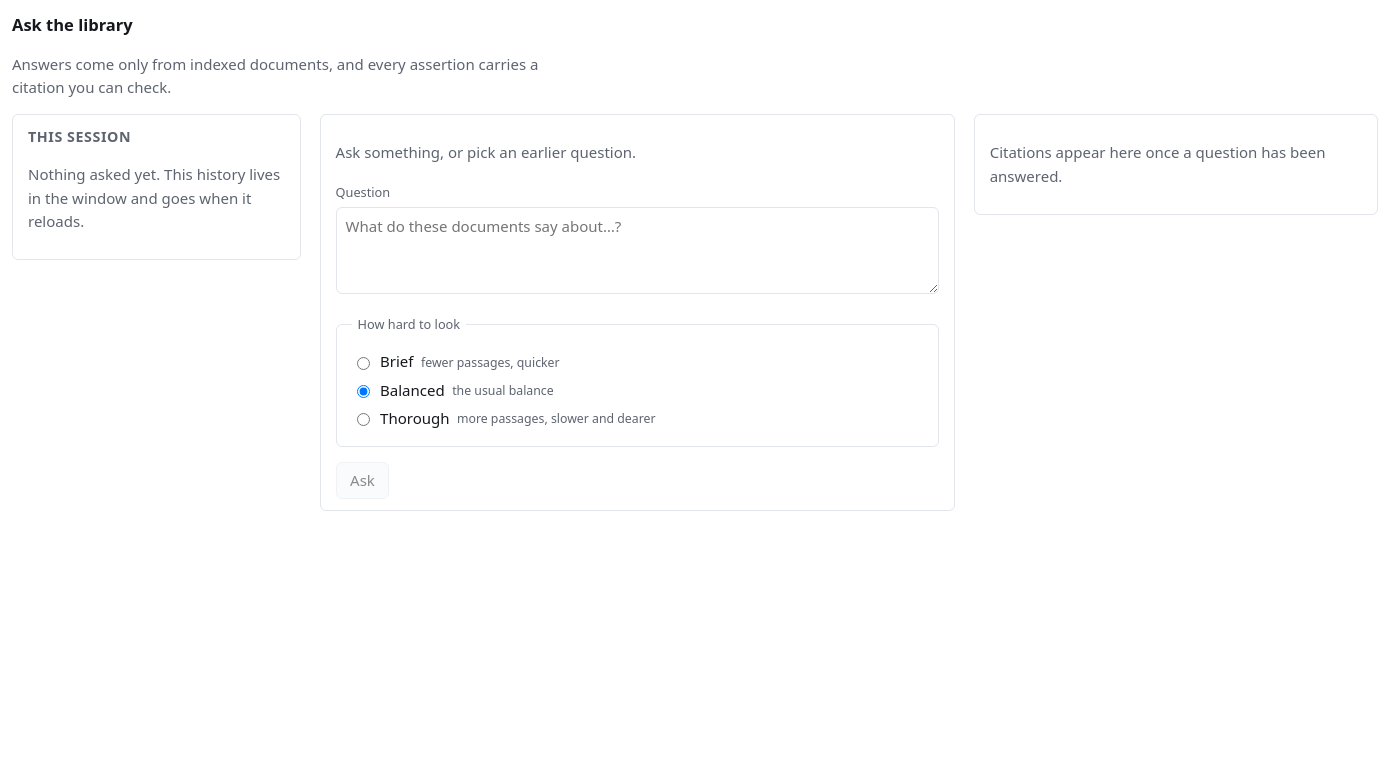
it: citations and the passage behind them › previews the first citation's passage by default
The image size is (1378, 780).
Type "¿una pregunta?" into the text box at (637, 250), box [336,207,939,294]
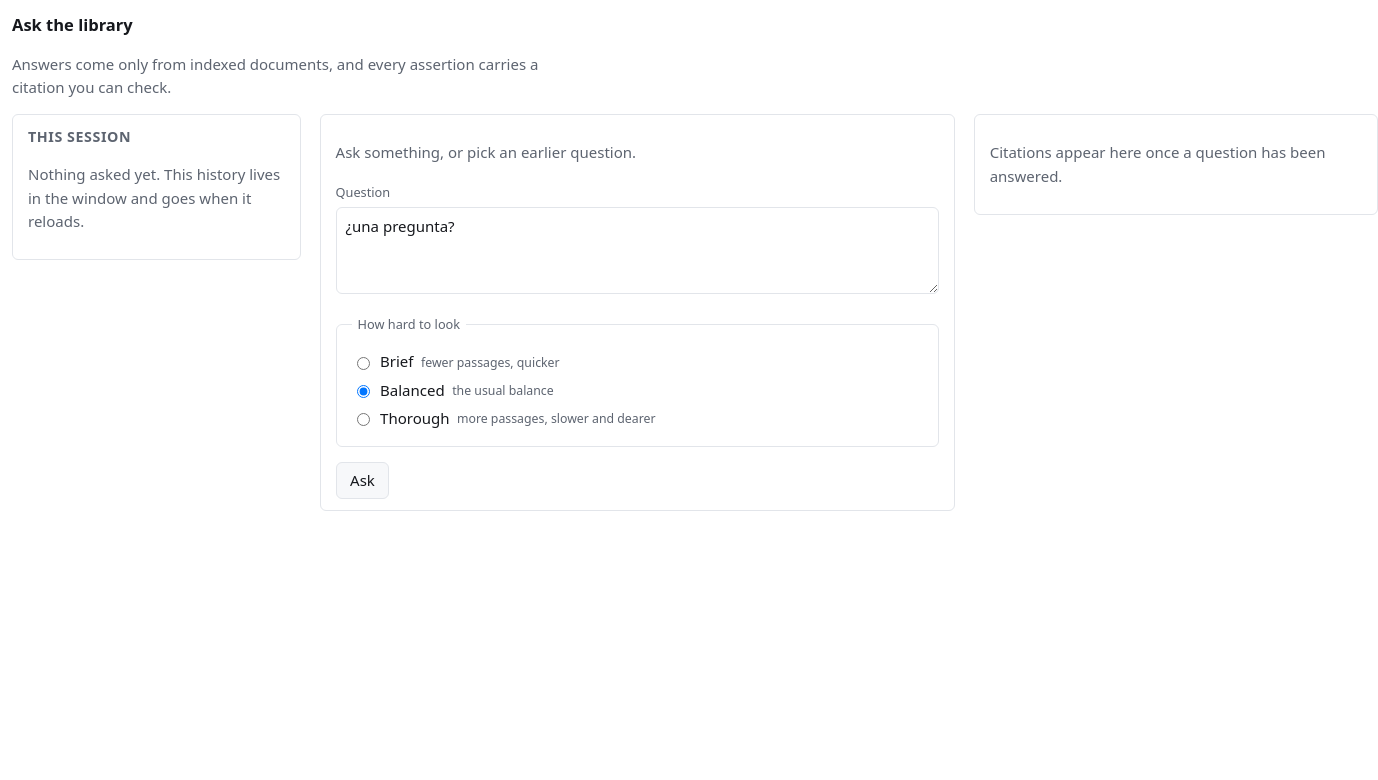
Check: the button "Ask" is enabled
Click the button "Ask" at (362, 480), box [336,462,389,499]
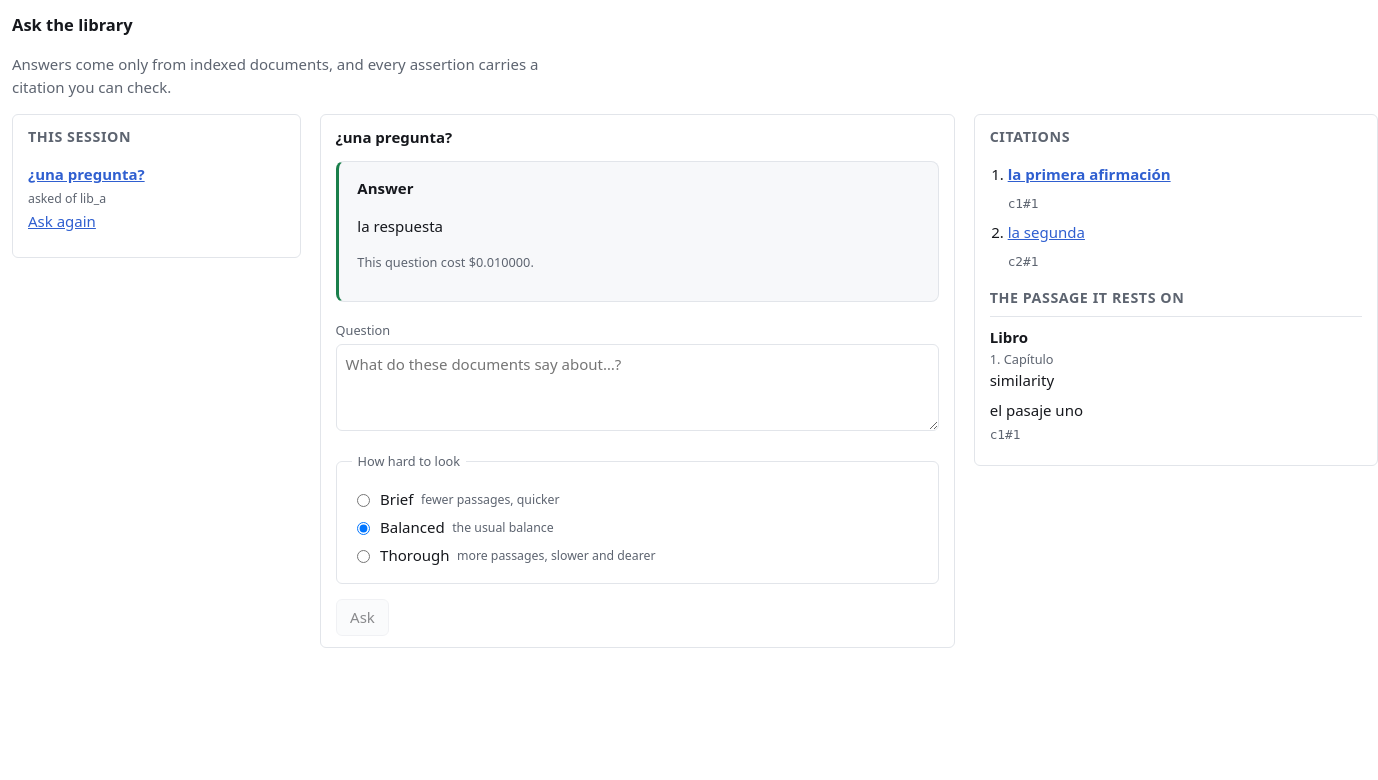
Check: the text "el pasaje uno" is shown, box [990,400,1083,420]
